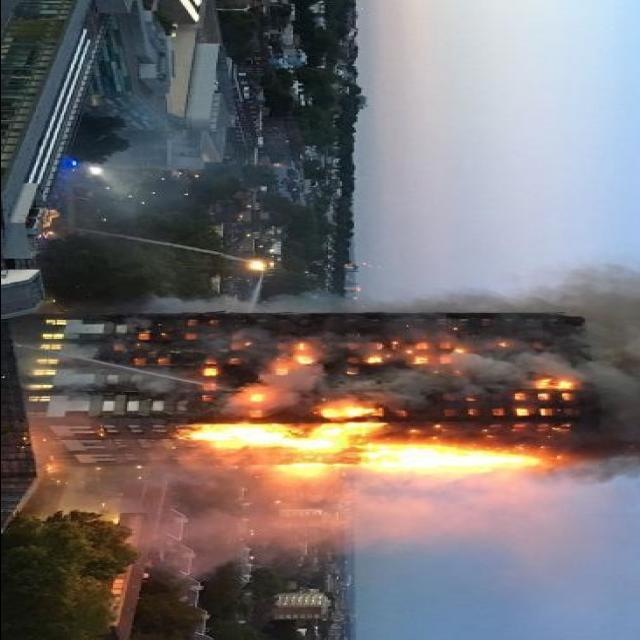Fire: (173, 342, 577, 478)
